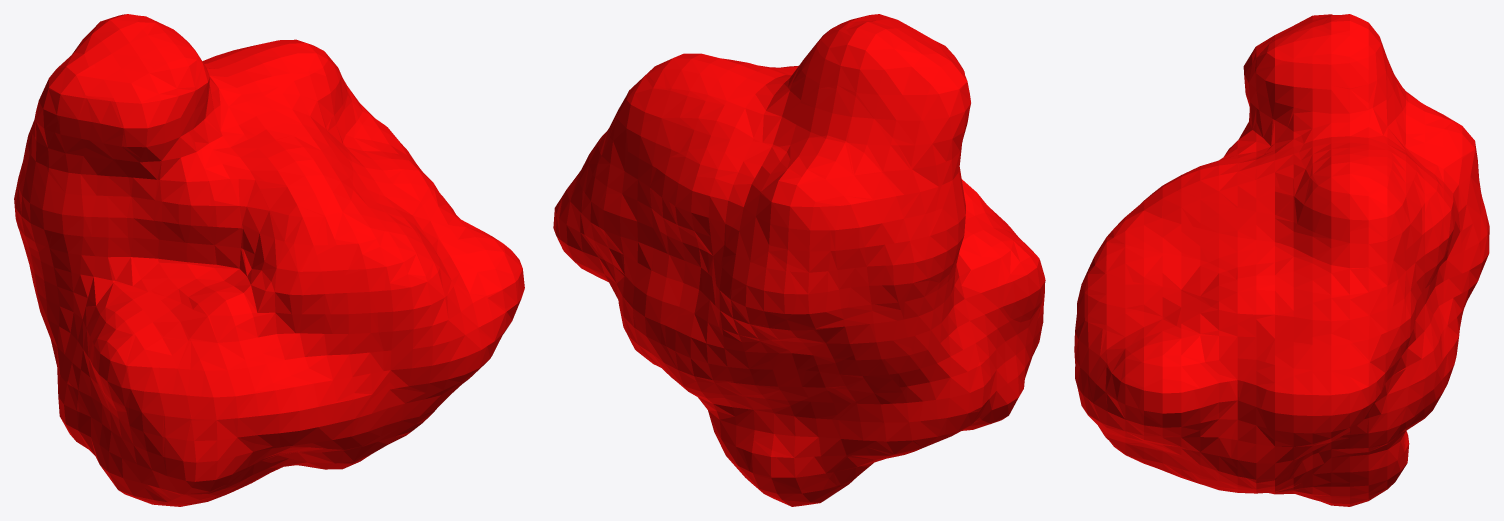
Rendered from ycfP_coarse.dae.
The picture shows the model from 3 angles, left to right: view 1: azimuth 30°, elevation 25°; view 2: azimuth 150°, elevation 25°; view 3: azimuth 270°, elevation 25°; orthographic projection. The views are drawn at different scales.
Visible parts, largest first — view 1: ycfP; view 2: ycfP; view 3: ycfP.
Part boxes in pixels (box(x1,y1,x2,y2)): ycfP: box(14, 14, 524, 506); ycfP: box(553, 14, 1045, 506); ycfP: box(1074, 14, 1489, 506).
Size of the model in its own units: 44.68 by 50.88 by 41.99.
